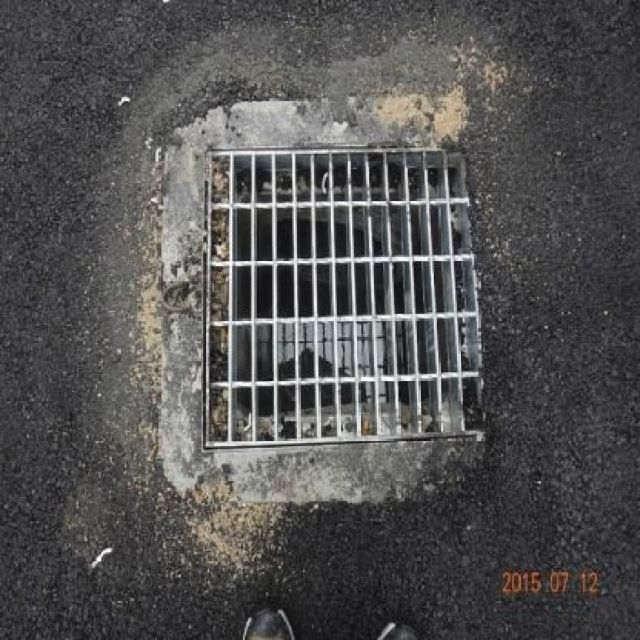Drain Hole: (195, 130, 498, 461)
